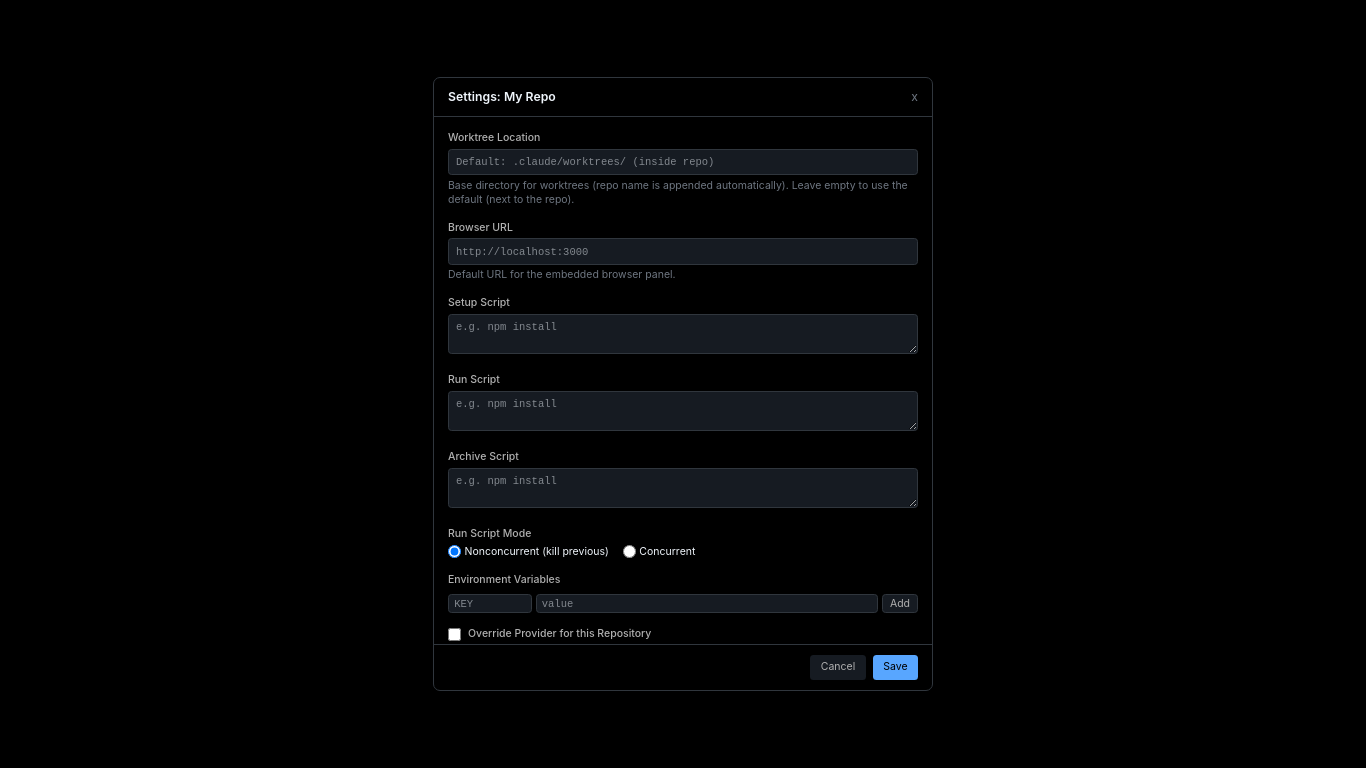
Test: RepoSettingsPanel › changes run script mode to concurrent
Check: the radio button labelled "Nonconcurrent (kill previous)" is checked, box [448,545,461,558]
Click the radio button labelled "Concurrent": click(629, 552) [623,545,636,558]
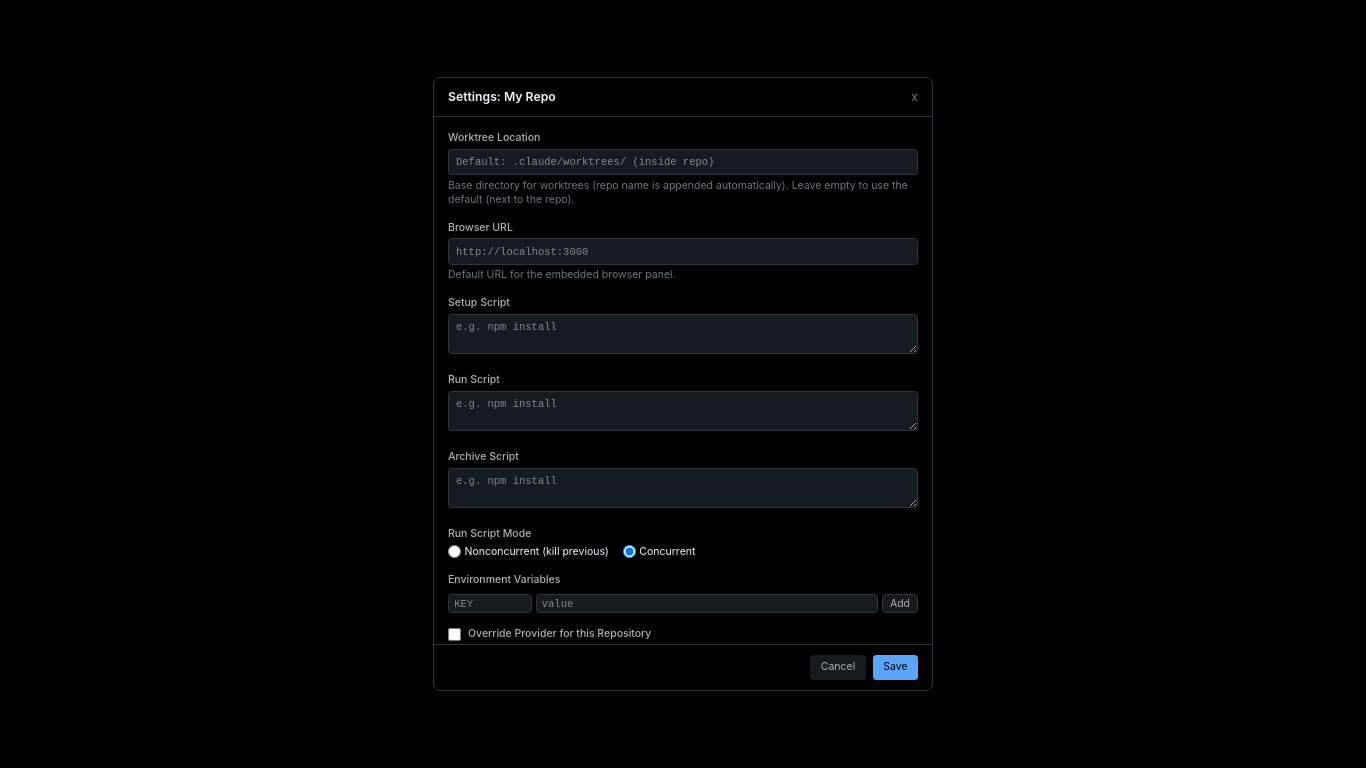
Check: the radio button labelled "Concurrent" is checked, box [623,545,636,558]
Check: the radio button labelled "Nonconcurrent (kill previous)" is not checked, box [448,545,461,558]
